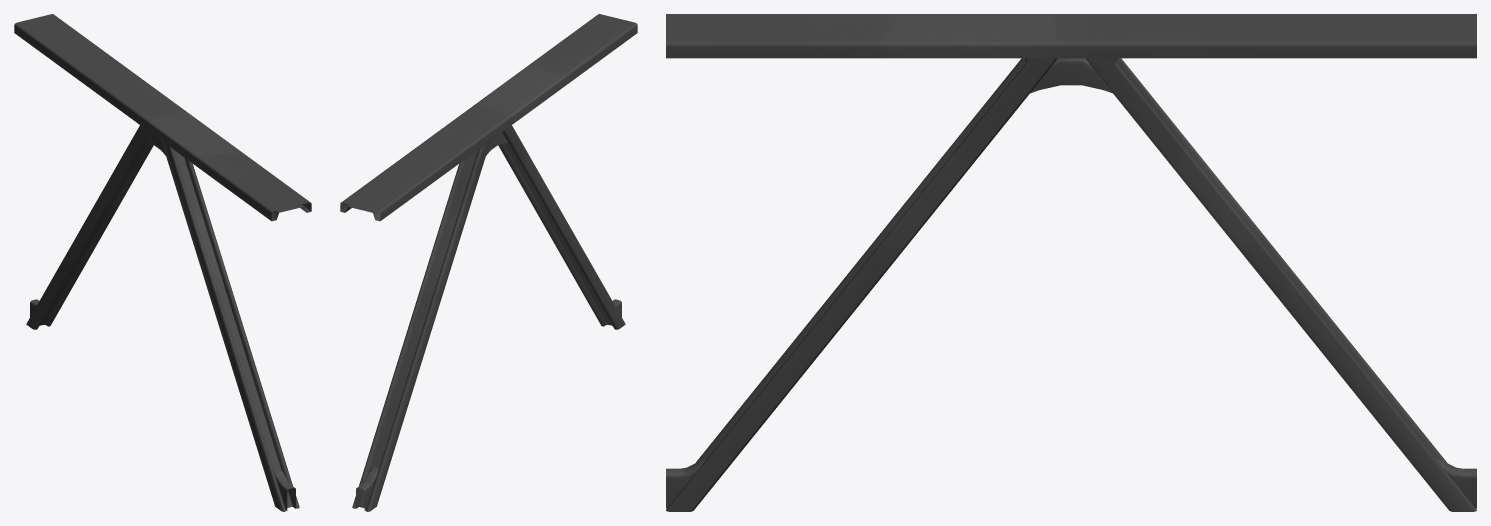
File: EN_W_fence2.fbx
3 renders of one model, left to right at view 1: azimuth 30°, elevation 25°; view 2: azimuth 150°, elevation 25°; view 3: azimuth 270°, elevation 25°, orthographic. The views are drawn at different scales.
Parts seen in each view (by area): view 1: EN_W_fence2; view 2: EN_W_fence2; view 3: EN_W_fence2.
Boxes of the visible parts, box(x1,y1,x2,y2) form: EN_W_fence2: box(14, 14, 311, 511); EN_W_fence2: box(340, 14, 637, 511); EN_W_fence2: box(666, 14, 1476, 511).
Size of the model in its own units: 17.96 by 130 by 200.
